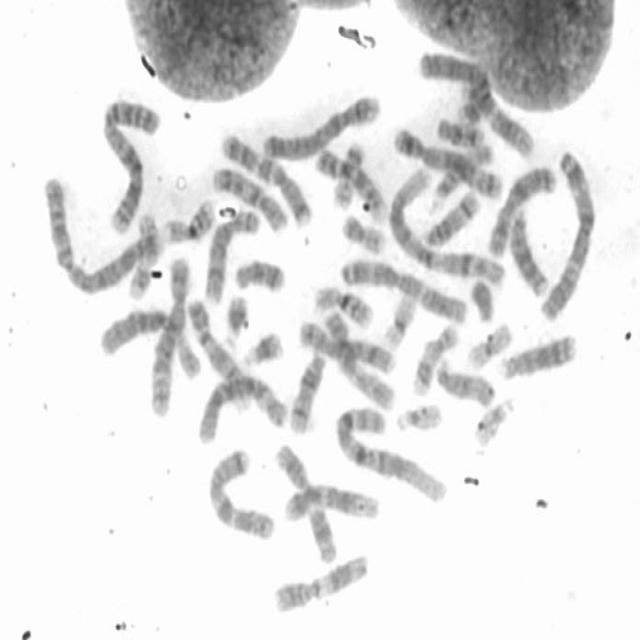A1: (386, 159, 507, 287), (331, 399, 450, 505)
A2: (39, 168, 163, 298), (96, 89, 164, 239)
A3: (535, 142, 598, 321), (338, 250, 470, 325)
B4: (256, 86, 383, 162), (414, 43, 493, 126)
B5: (389, 122, 505, 199), (145, 251, 193, 419)
C10: (316, 304, 396, 412), (208, 158, 290, 234)
C11: (271, 437, 339, 565), (268, 547, 372, 615)
C12: (456, 72, 536, 162), (279, 480, 382, 524)
C6: (96, 301, 204, 382), (194, 366, 290, 446)
C7: (216, 127, 314, 227), (203, 441, 277, 542)
C8: (295, 314, 398, 377), (200, 202, 262, 305)
C9: (183, 292, 254, 413), (310, 141, 388, 223)
D13: (496, 327, 579, 382), (506, 200, 552, 298)
D14: (418, 183, 482, 250), (286, 343, 328, 435)
D15: (427, 137, 496, 210), (432, 352, 496, 408)
E16: (310, 278, 375, 330), (160, 192, 218, 245)
E17: (408, 316, 460, 398), (124, 207, 160, 301)
E18: (230, 252, 286, 294), (432, 109, 487, 149)
F19: (463, 316, 514, 372), (379, 284, 420, 350)
F20: (327, 134, 368, 210), (338, 207, 388, 255)
G21: (238, 324, 286, 369), (219, 287, 251, 347)
G22: (470, 391, 518, 448), (392, 396, 444, 434)
X: (483, 159, 558, 259)
Y: (466, 272, 497, 324)
